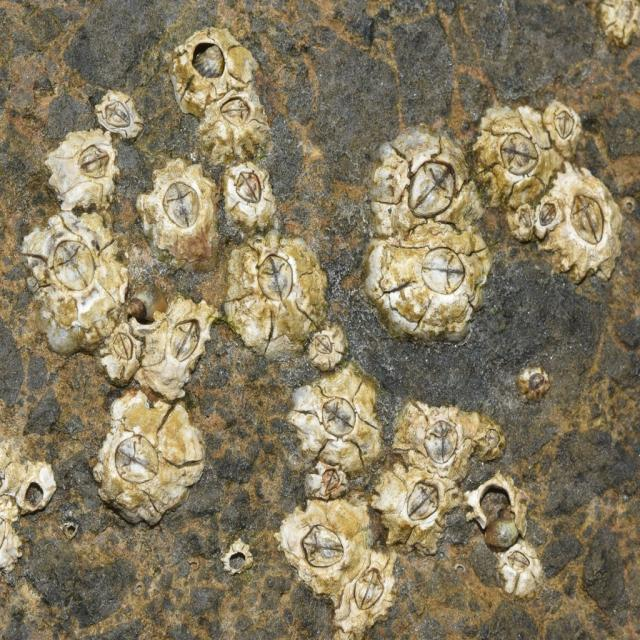barnacles: (94, 392, 204, 534), (369, 231, 494, 350), (223, 236, 323, 360), (28, 218, 126, 342), (374, 133, 484, 231), (544, 159, 626, 288), (138, 162, 219, 282), (290, 372, 386, 469), (277, 502, 369, 590), (473, 98, 550, 194), (377, 465, 453, 562), (397, 398, 478, 486), (149, 304, 218, 402), (170, 26, 259, 92), (55, 128, 123, 207), (340, 556, 398, 634), (222, 162, 282, 235), (98, 321, 143, 385), (502, 550, 556, 599), (101, 86, 145, 142), (546, 97, 582, 162), (302, 330, 348, 372)
